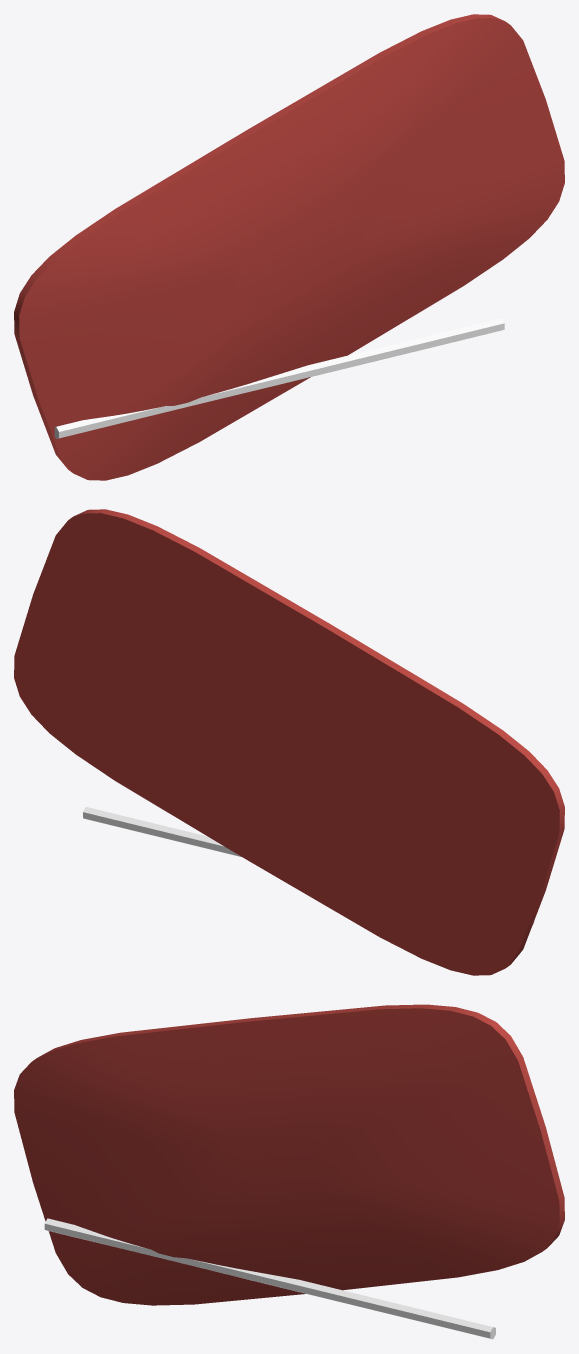
Rendered from cowl_lod1.glb.
3 renders of one model, top to bottom at view 1: azimuth 30°, elevation 25°; view 2: azimuth 150°, elevation 25°; view 3: azimuth 330°, elevation 25°, orthographic.
Parts seen in each view (by area): view 1: cowl_lod1; view 2: cowl_lod1; view 3: cowl_lod1.
Part boxes in pixels (bbox=[...]): cowl_lod1: bbox=[14, 14, 564, 480]; cowl_lod1: bbox=[14, 509, 564, 975]; cowl_lod1: bbox=[14, 1004, 564, 1339].
Size of the model in its own units: 0.3675 by 0.2394 by 0.0154.
